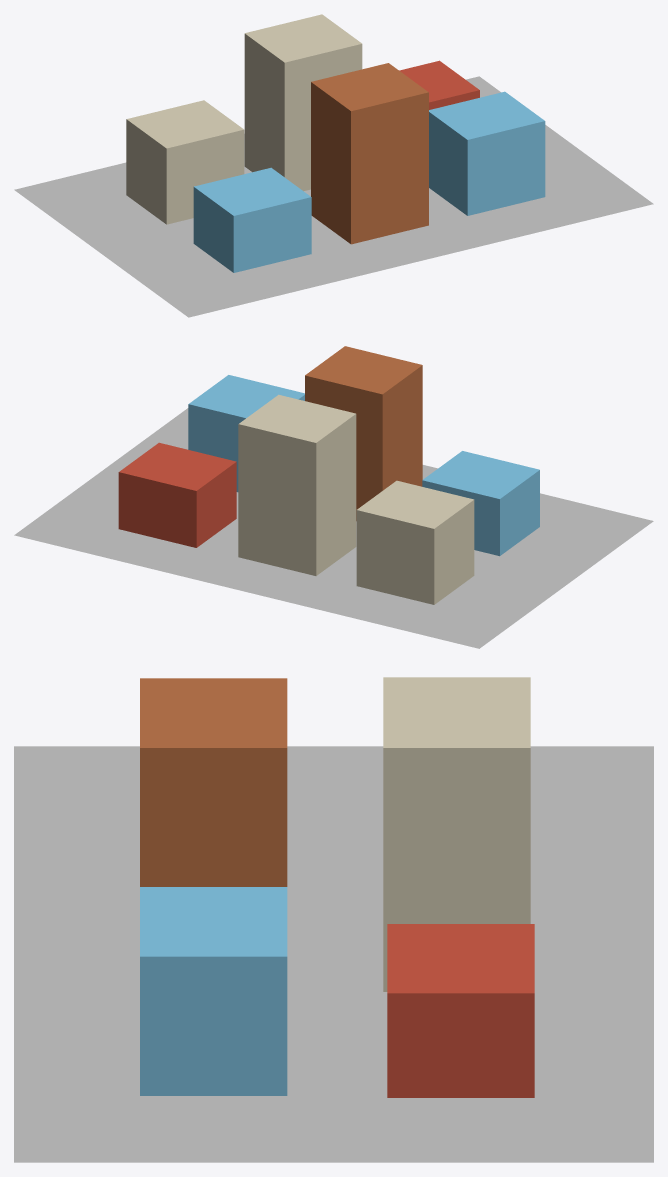
File: simple_street_canyon.glb
3 views of the same model, one above another, from view 1: azimuth 30°, elevation 25°; view 2: azimuth 150°, elevation 25°; view 3: azimuth 270°, elevation 25° (orthographic). The views are drawn at different scales.
Visible parts, largest first — view 1: floor, building_6, building_4, building_5, building_3, building_1, building_2; view 2: floor, building_4, building_3, building_6, building_2, building_1, building_5; view 3: floor, building_4, building_5, building_6, building_2.
Part boxes in pixels (box(x1,y1,x2,y2)): floor: box(14, 76, 653, 317); building_6: box(311, 63, 428, 244); building_4: box(244, 14, 362, 191); building_5: box(429, 91, 545, 215); building_3: box(126, 100, 244, 224); building_1: box(193, 167, 311, 272); building_2: box(399, 60, 479, 109); floor: box(14, 408, 653, 648); building_4: box(238, 394, 356, 575); building_3: box(356, 480, 474, 604); building_6: box(305, 346, 422, 520); building_2: box(118, 442, 236, 547); building_1: box(422, 451, 539, 556); building_5: box(188, 375, 304, 492); floor: box(14, 746, 653, 1162); building_4: box(383, 678, 530, 991); building_5: box(140, 887, 287, 1095); building_6: box(140, 678, 287, 886); building_2: box(387, 924, 534, 1097).
Bounding box in the file's own units: 186 × 50.97 × 121.
